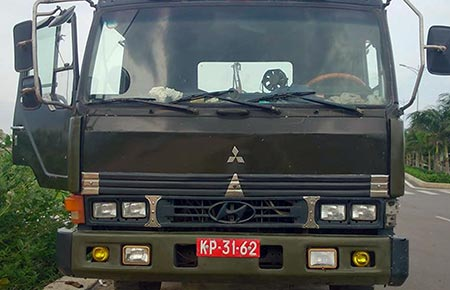plate: (193, 233, 259, 259)
